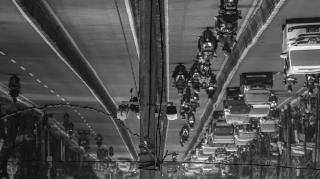mobil: (240, 72, 274, 104)
motor: (217, 11, 240, 51), (199, 28, 217, 66), (170, 63, 190, 95), (280, 64, 298, 92), (191, 62, 203, 92), (206, 74, 218, 98), (304, 75, 318, 95), (8, 74, 18, 100)
